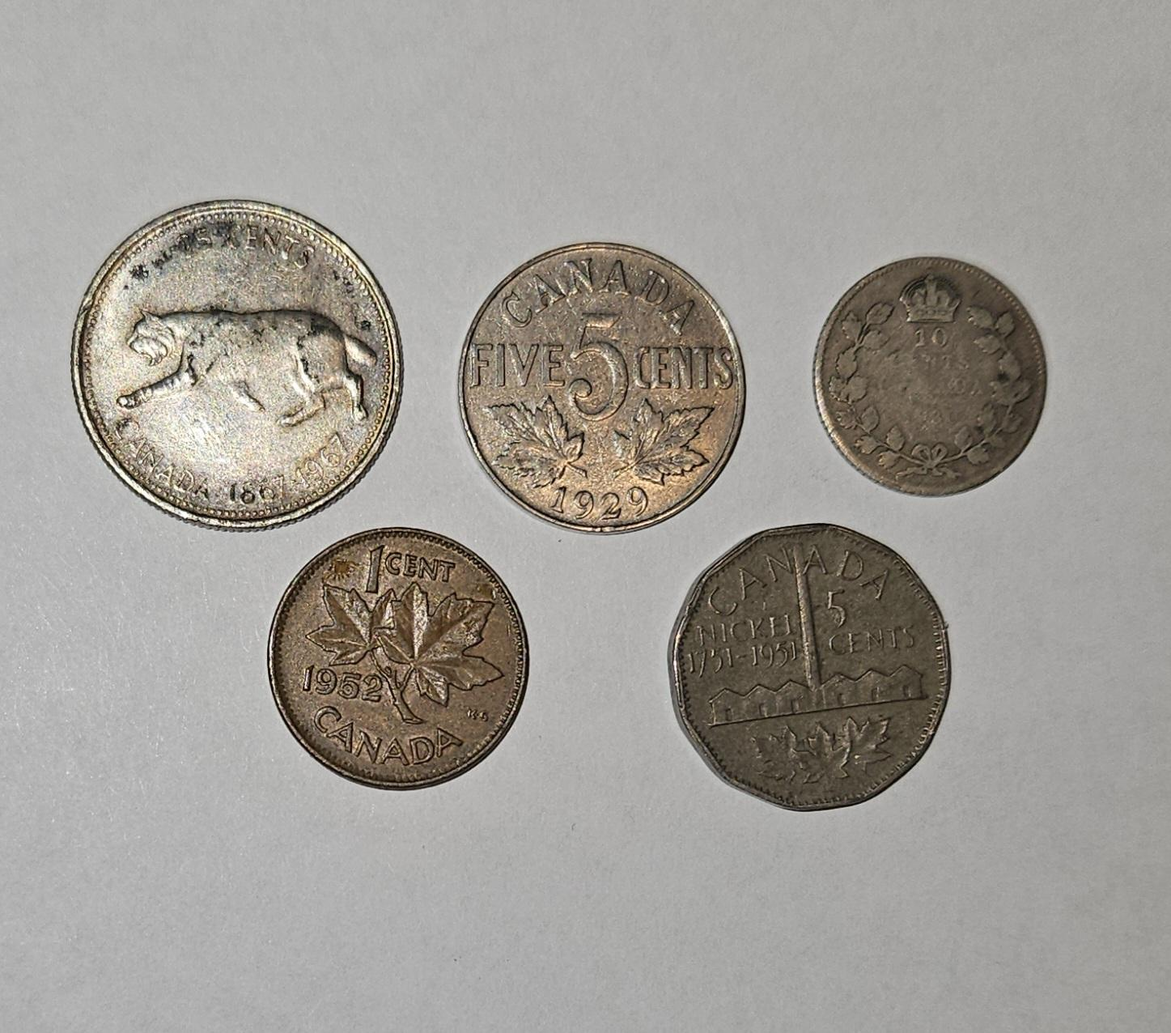coin: (72, 201, 401, 527), (460, 244, 744, 531), (670, 525, 948, 809), (269, 529, 527, 787), (814, 257, 1045, 495)
